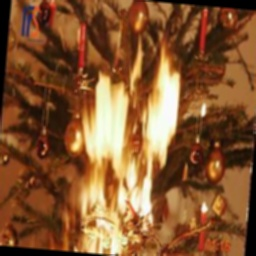fire: (71, 46, 188, 220)
